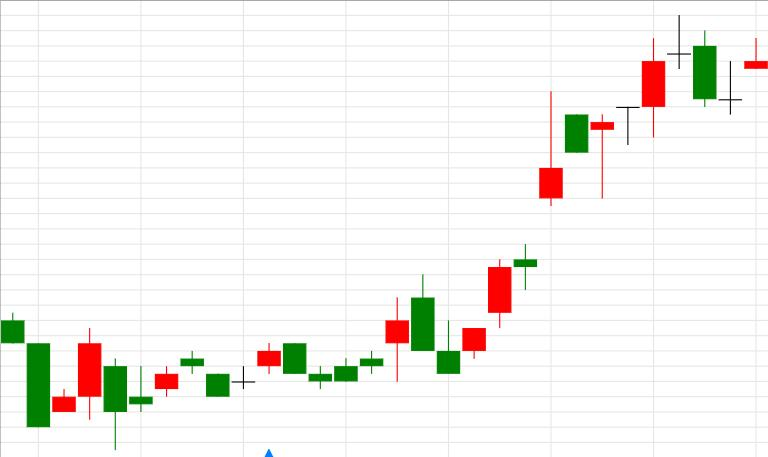shooting_star_fall: (462, 92, 563, 359)
